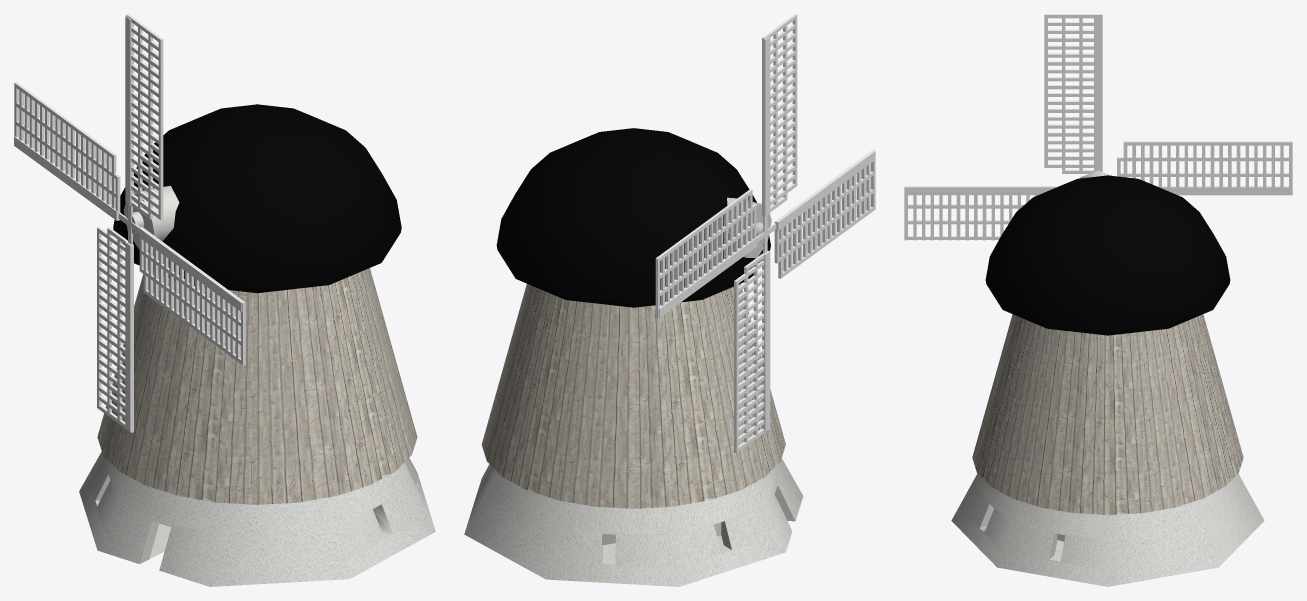
File: Muehle_TexturIncluded.FBX
3 views of the same model, side by side, from view 1: azimuth 30°, elevation 25°; view 2: azimuth 150°, elevation 25°; view 3: azimuth 270°, elevation 25° (orthographic). The views are drawn at different scales.
Parts seen in each view (by area): view 1: Cone001; view 2: Cone001; view 3: Cone001.
Part boxes in pixels (<box>): Cone001: <box>14,14,435,586</box>; Cone001: <box>464,14,875,586</box>; Cone001: <box>904,14,1292,586</box>.
Bounding box in the file's own units: 709 × 1126 × 878.
4 materials, 2 textured.
